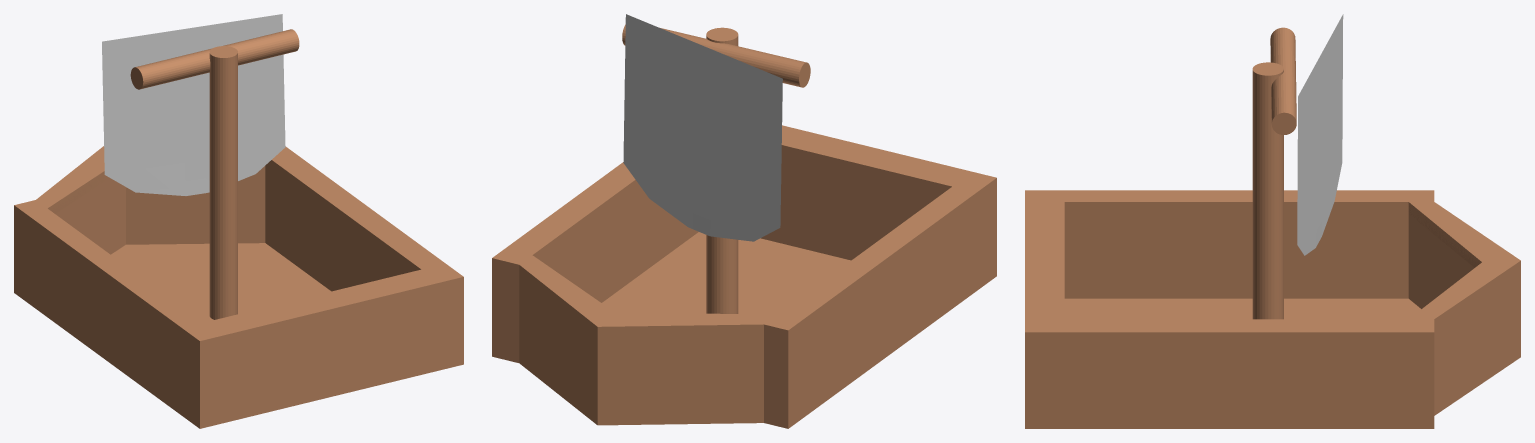
Rendered from BiigBoat.fbx.
3 renders of one model, left to right at view 1: azimuth 30°, elevation 25°; view 2: azimuth 150°, elevation 25°; view 3: azimuth 270°, elevation 25°, orthographic. The views are drawn at different scales.
Parts seen in each view (by area): view 1: Cube, Grid, Cylinder; view 2: Cube, Grid, Cylinder; view 3: Cube, Cylinder, Grid.
Boxes of the visible parts, x1,y1,x2,y2 form: Cube: [14, 146, 463, 428]; Grid: [102, 14, 285, 195]; Cylinder: [130, 29, 299, 319]; Cube: [492, 125, 996, 428]; Grid: [623, 14, 782, 241]; Cylinder: [622, 24, 810, 313]; Cube: [1025, 190, 1520, 428]; Cylinder: [1252, 27, 1296, 319]; Grid: [1297, 14, 1343, 255].
Size of the model in its own units: 568 by 564 by 839.
